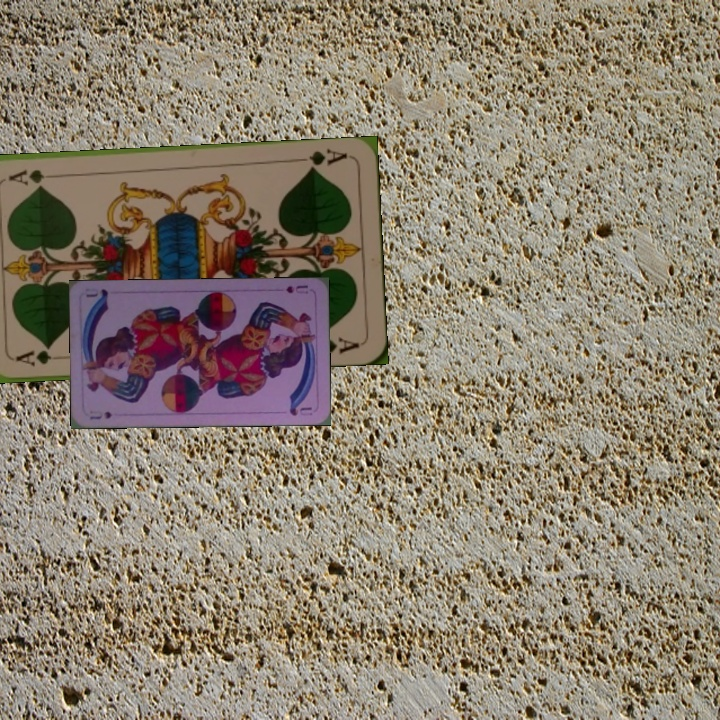GA: (293, 145, 350, 173), (12, 345, 71, 369)
SU: (86, 407, 114, 422), (282, 282, 311, 296)
